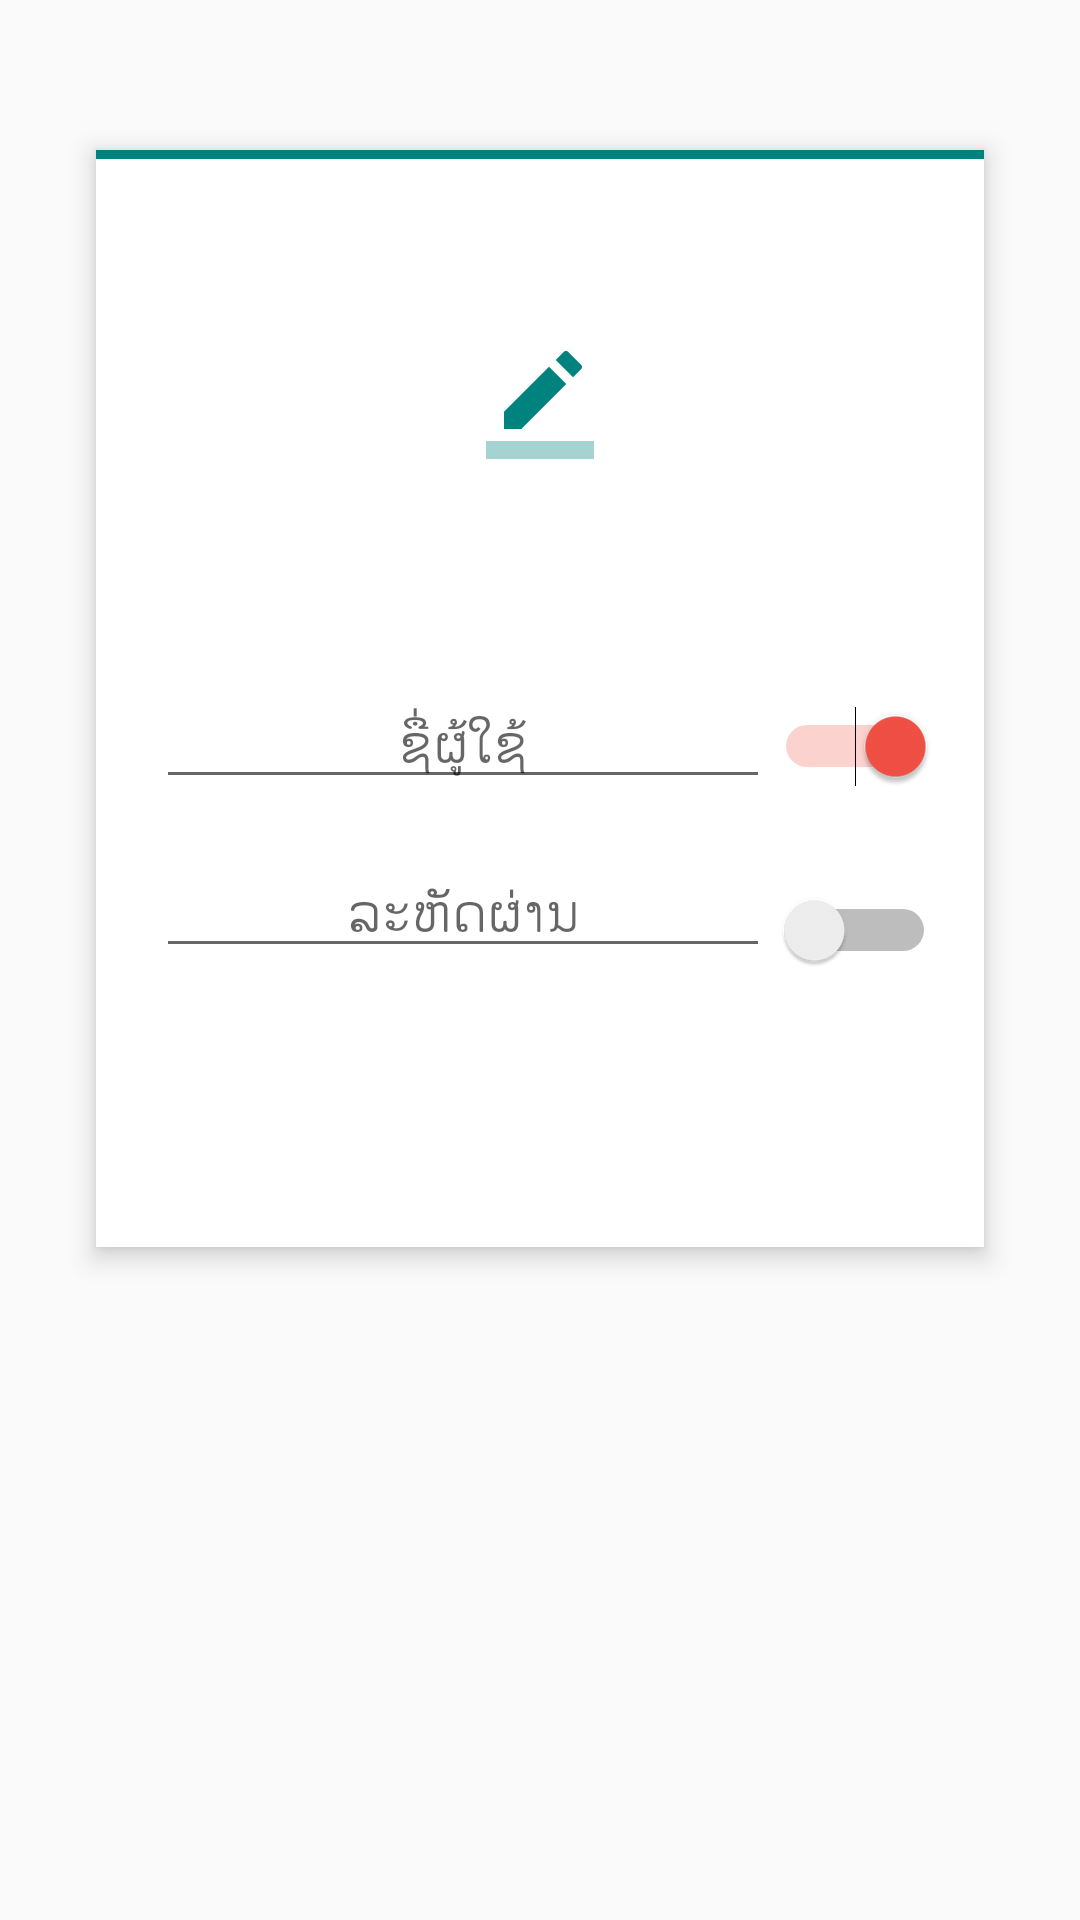

Named icons in this screenshot (1080 × 1920) and their bounding boxes, BBox(x1, y1, x2, y2):
border: BBox(486, 351, 594, 459)
